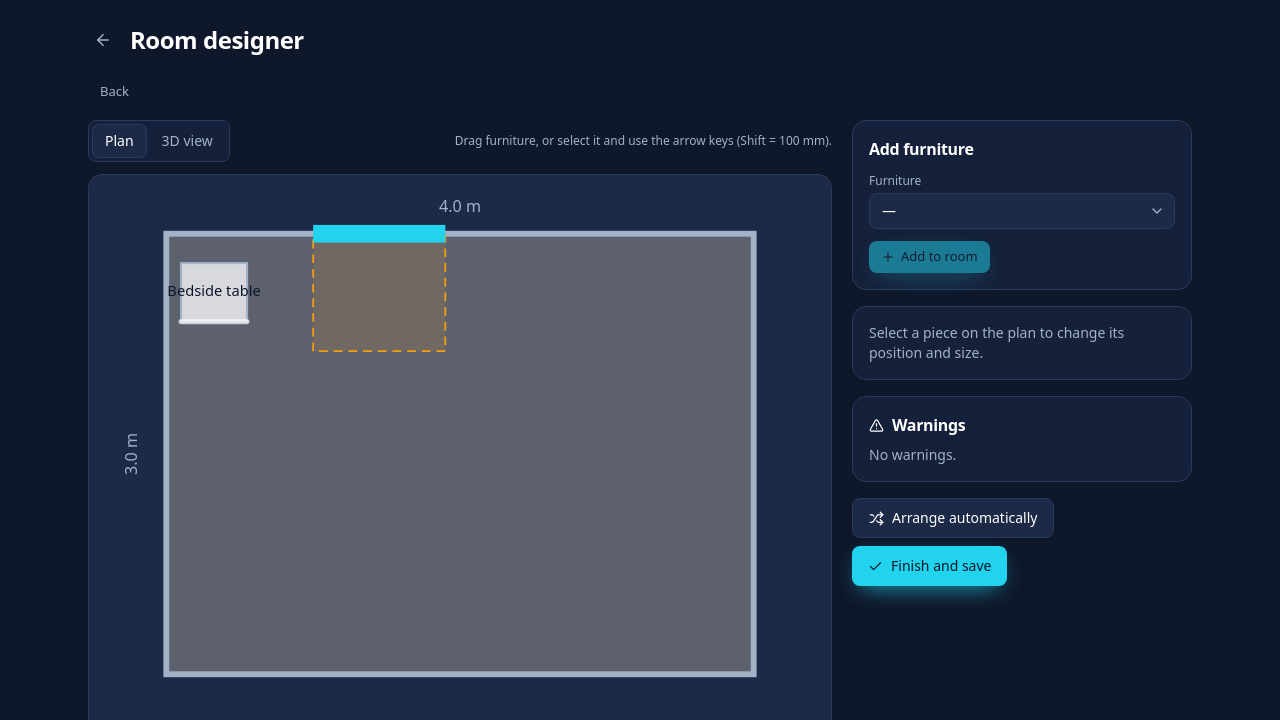
Test: Room designer: furnishing › adds a piece of furniture and selects it
This screenshot has width=1280, height=720.
Select "Dresser" in the dropdown labelled "Furniture" at (1022, 211), box [869,193,1175,229]
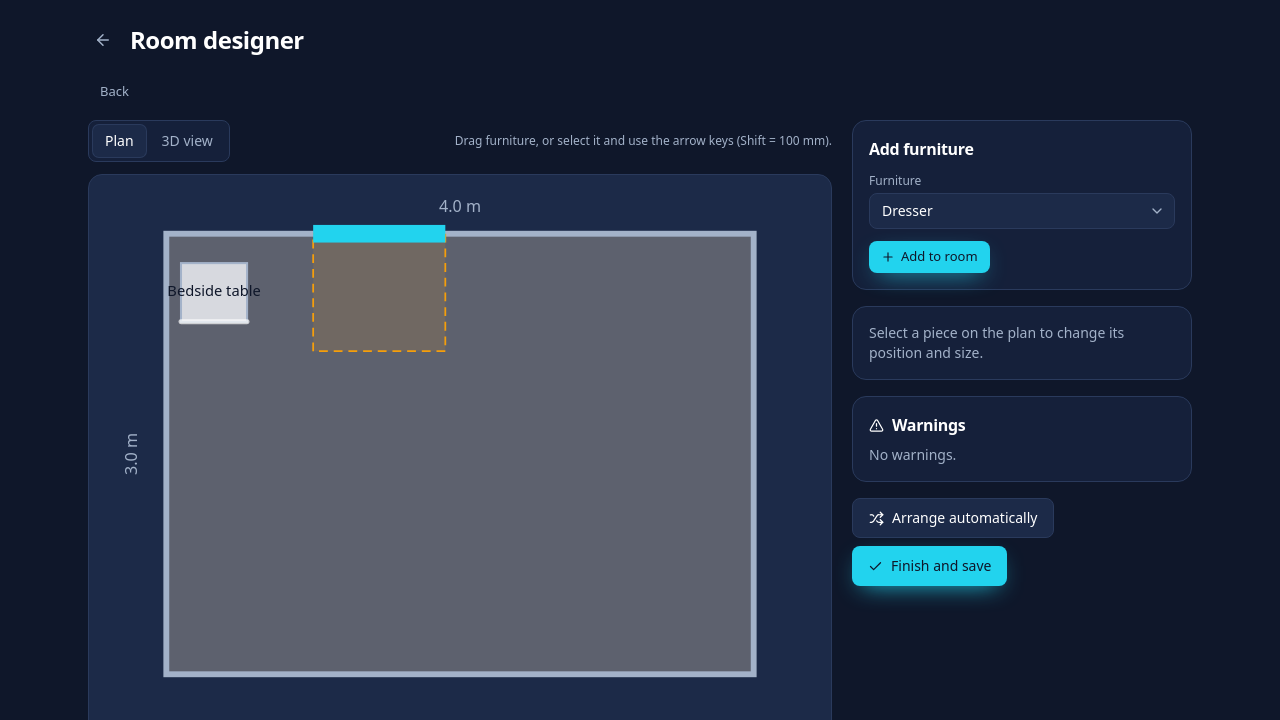
Click the button "Add to room" at (929, 257), box [869,241,990,273]
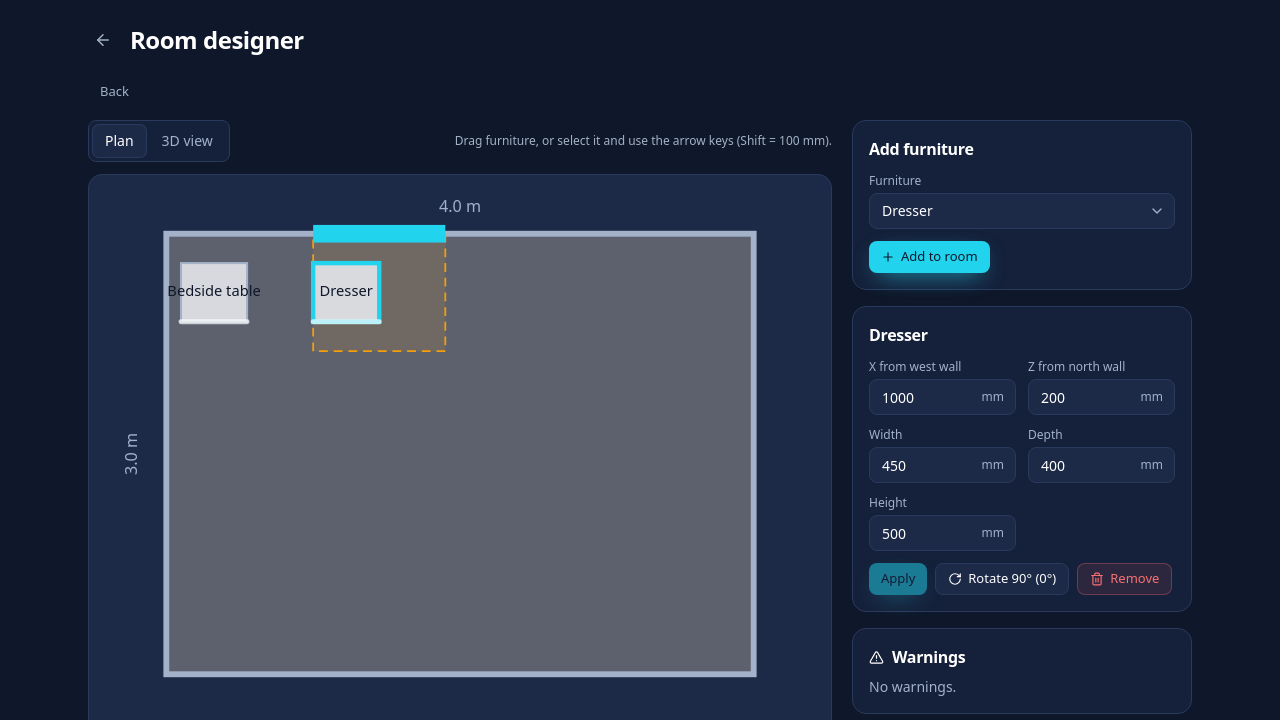
Expected: the heading "Dresser" is shown, [869,324,928,346]
